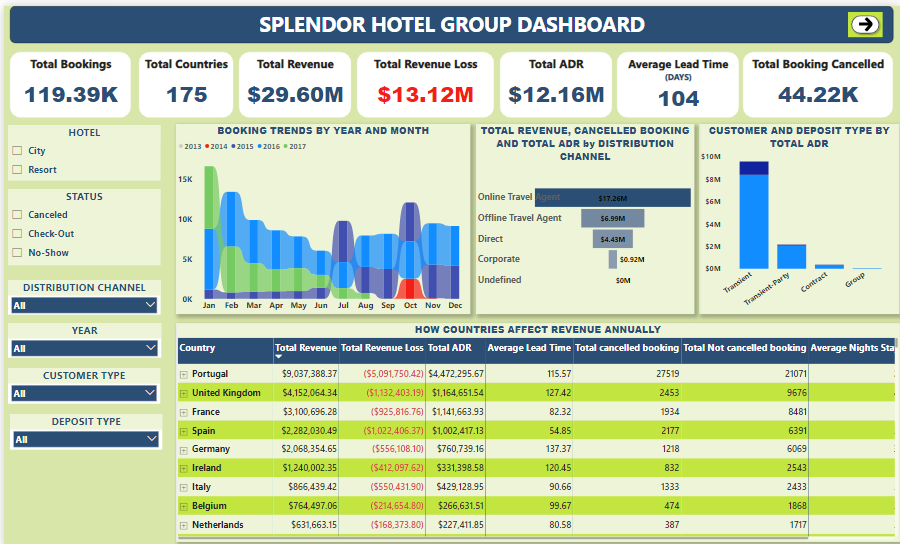

Layout of this report page (visuals, bound fields, positions):
{"tool":"powerbi","page":{"name":"DASHBOARD","canvas":[2560,1550],"ordinal":0},"visuals":[{"type":"textbox","box":[18.2,0,2523.5,105.9],"z":0},{"type":"card","title":"Total Bookings","fields":{"Values":["CountNonNull(Data.Customer Type)"]},"box":[17,130.3,345.5,186.9],"z":1000},{"type":"card","title":"Total Countries","fields":{"Values":["Count(Data.Country)"]},"box":[385.1,130.3,269,186.9],"z":2000},{"type":"card","title":"Total Revenue","fields":{"Values":["Sum(Data.Revenue)"]},"box":[671.2,130.3,320,186.9],"z":3000},{"type":"card","title":"Total ADR","fields":{"Values":["Sum(Data.Avg Daily Rate)"]},"box":[1415.9,130.3,320,186.9],"z":4000},{"type":"card","title":"Average Lead Time","fields":{"Values":["Avg(Data.Lead Time)"]},"box":[1750.1,130.3,348.3,186.9],"z":5000},{"type":"card","title":"Total Booking Cancelled","fields":{"Values":["Data.cancelled booking"]},"box":[2112.6,130.3,427.6,186.9],"z":6000},{"type":"card","title":"Total Revenue Loss","fields":{"Values":["Data.TRL"]},"box":[1008.1,130.3,390.8,186.9],"z":7000},{"type":"slicer","title":"YEAR","fields":{"Values":["Calendar.Year"]},"box":[11,905.6,437.7,99.1],"z":8000},{"type":"slicer","title":"HOTEL","fields":{"Values":["Data.Hotel"]},"box":[11.3,339.8,436.1,158.6],"z":9000},{"type":"slicer","title":"STATUS","fields":{"Values":["Data.Status"]},"box":[11.3,523.9,436.1,218.1],"z":10000},{"type":"slicer","title":"DISTRIBUTION CHANNEL","fields":{"Values":["Data.Distribution Channel"]},"box":[11.3,781.6,436.1,99.1],"z":11000},{"type":"ribbonChart","title":"BOOKING TRENDS BY YEAR AND MONTH","fields":{"Series":["Calendar.Year"],"Category":["Calendar.Month"],"Y":["CountNonNull(Data.Booking ID)"]},"box":[492,337.5,840.9,543.5],"z":12000},{"type":"columnChart","title":"CUSTOMER AND DEPOSIT TYPE BY TOTAL ADR ","fields":{"Y":["Sum(Data.Avg Daily Rate)"],"Category":["Data.Customer Type"],"Series":["Data.Deposit Type"]},"box":[1986.8,338.6,573.2,543.5],"z":14000},{"type":"pivotTable","title":"HOW COUNTRIES AFFECT REVENUE ANNUALLY","fields":{"Rows":["Data.Country","Calendar.Year"],"Values":["Sum(Data.Revenue)","Sum(Data.Revenue Loss)","Sum(Data.Avg Daily Rate)","Avg(Data.Lead Time)","Data.cancelled booking","Data.Not cancelled booking","Avg(Data.Nights)","Sum(Data.Guests)"]},"box":[492,906.7,2068,623.6],"z":15000},{"type":"actionButton","box":[2411.4,16.5,99.1,71.6],"z":16000},{"type":"slicer","title":"CUSTOMER TYPE","fields":{"Values":["Data.Customer Type"]},"box":[11,1035,434.9,101.8],"z":17000},{"type":"slicer","title":"DEPOSIT  TYPE","fields":{"Values":["Data.Deposit Type"]},"box":[16.5,1167.1,434.9,101.8],"z":18000},{"type":"funnel","title":"TOTAL REVENUE, CANCELLED BOOKING AND TOTAL ADR by DISTRIBUTION CHANNEL","fields":{"Category":["Data.Distribution Channel"],"Y":["Sum(Data.Revenue)"]},"box":[1347.2,337.5,623.6,543.5],"z":19000}]}

Visuals, with their boxes in screenshot pixels (x1, y1, x2, y2), scaled from the page's 2560x1550 canvas onto the 900x544 screenshot:
textbox: left=6, top=0, right=894, bottom=37
"Total Bookings" card: left=6, top=46, right=127, bottom=111
"Total Countries" card: left=135, top=46, right=230, bottom=111
"Total Revenue" card: left=236, top=46, right=348, bottom=111
"Total ADR" card: left=498, top=46, right=610, bottom=111
"Average Lead Time" card: left=615, top=46, right=738, bottom=111
"Total Booking Cancelled" card: left=743, top=46, right=893, bottom=111
"Total Revenue Loss" card: left=354, top=46, right=492, bottom=111
"YEAR" slicer: left=4, top=318, right=158, bottom=353
"HOTEL" slicer: left=4, top=119, right=157, bottom=175
"STATUS" slicer: left=4, top=184, right=157, bottom=260
"DISTRIBUTION CHANNEL" slicer: left=4, top=274, right=157, bottom=309
"BOOKING TRENDS BY YEAR AND MONTH" ribbonChart: left=173, top=118, right=469, bottom=309
"CUSTOMER AND DEPOSIT TYPE BY TOTAL ADR " columnChart: left=698, top=119, right=899, bottom=310
"HOW COUNTRIES AFFECT REVENUE ANNUALLY" pivotTable: left=173, top=318, right=899, bottom=537
actionButton: left=848, top=6, right=883, bottom=31
"CUSTOMER TYPE" slicer: left=4, top=363, right=157, bottom=399
"DEPOSIT  TYPE" slicer: left=6, top=410, right=159, bottom=445
"TOTAL REVENUE, CANCELLED BOOKING AND TOTAL ADR by DISTRIBUTION CHANNEL" funnel: left=474, top=118, right=693, bottom=309
